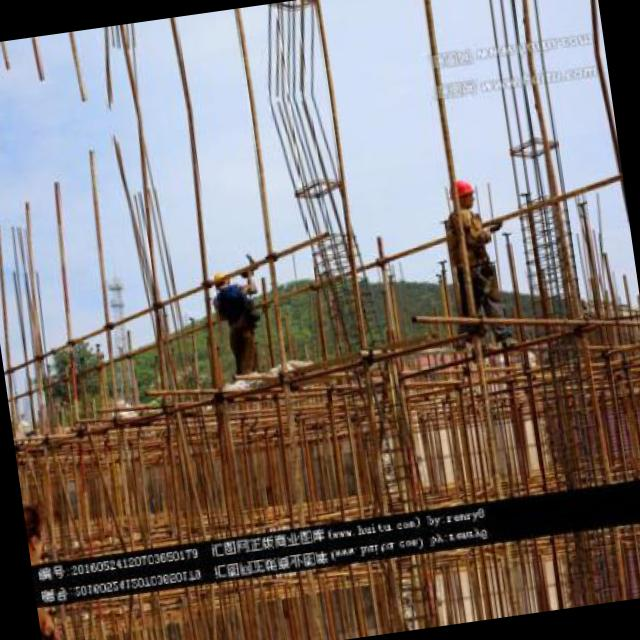helmet: (446, 176, 480, 215), (210, 269, 232, 296)
